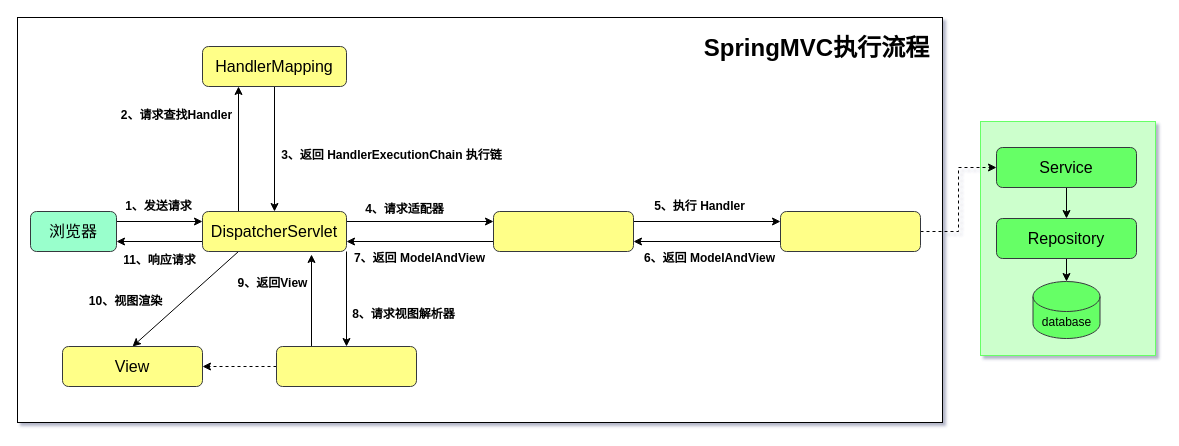
Image size: 1179x446. Some labels were removed from this diagram. The shapes that lost their labels are listed below. From the top down, each one's box as (x1, y1, x2, y2) in pixels, then its label:
(492, 210, 634, 252): HandlerAdapter
(780, 210, 920, 252): Handler（Controller）
(276, 346, 416, 386): ViewResolver
